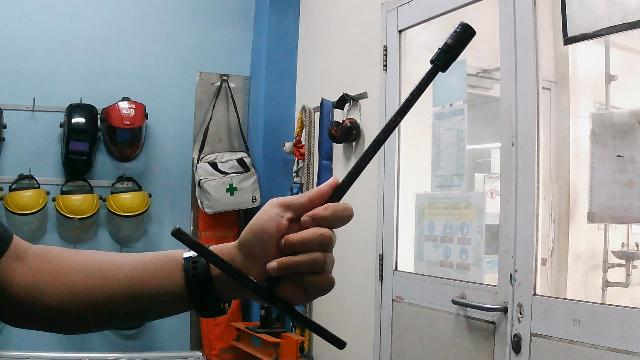kunci_t: (163, 13, 482, 355)
